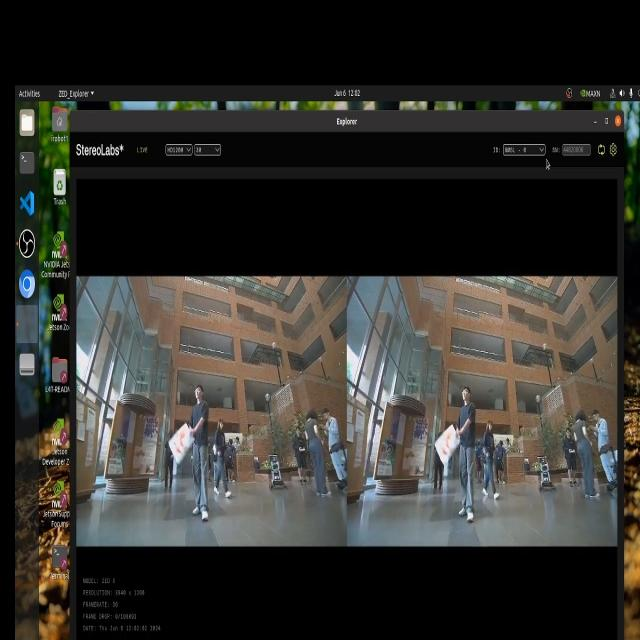red: (436, 427, 455, 464), (166, 424, 190, 452)
